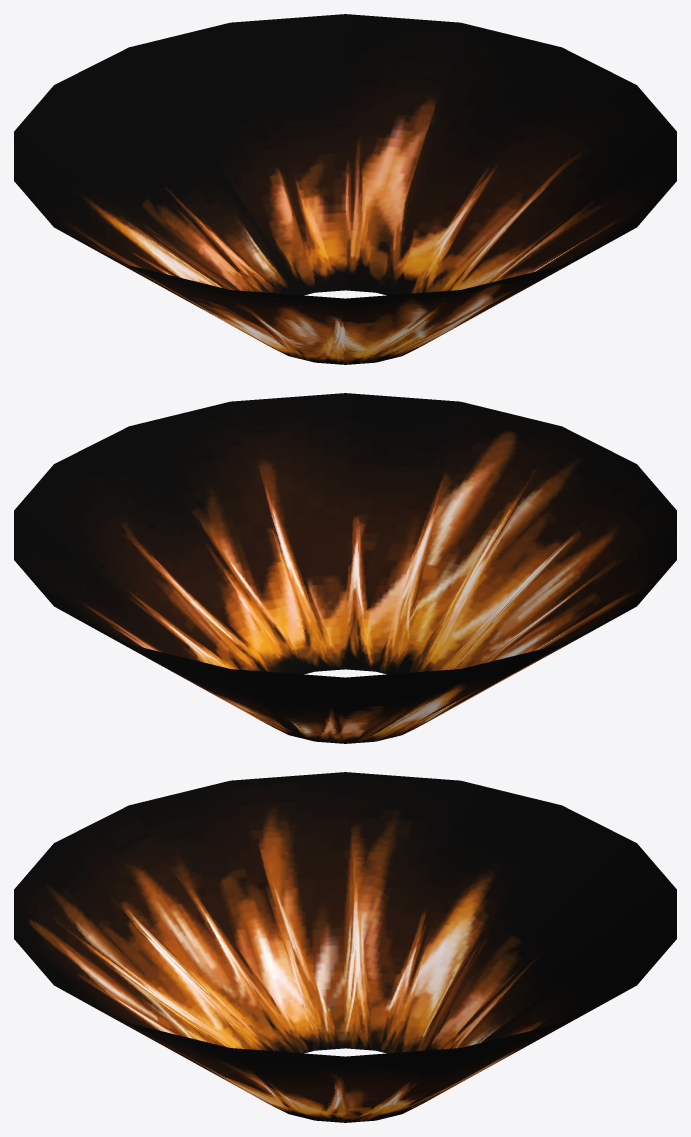
3 renders of one model, top to bottom at view 1: azimuth 30°, elevation 25°; view 2: azimuth 150°, elevation 25°; view 3: azimuth 270°, elevation 25°, orthographic.
Parts seen in each view (by area): view 1: W02000; view 2: W02000; view 3: W02000.
Part boxes in pixels (left/top/right/bottom): W02000: left=14, top=14, right=676, bottom=364; W02000: left=14, top=393, right=676, bottom=743; W02000: left=14, top=772, right=676, bottom=1122.
Size of the model in its own units: 103 by 28.96 by 102.
